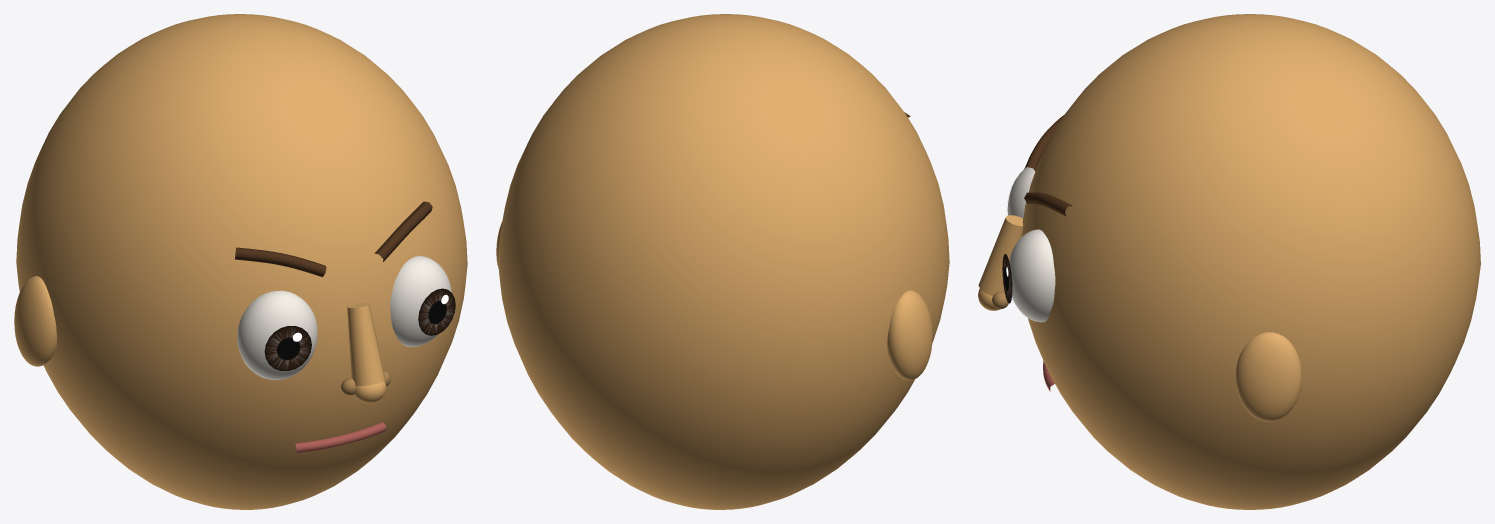
Rendered from 06-tristes.glb.
The picture shows the model from 3 angles, left to right: view 1: azimuth 30°, elevation 25°; view 2: azimuth 150°, elevation 25°; view 3: azimuth 270°, elevation 25°; orthographic projection.
Bounding box in the file's own units: 0.3087 × 0.321 × 0.3166.
Materials: 9 (1 with a texture image).
